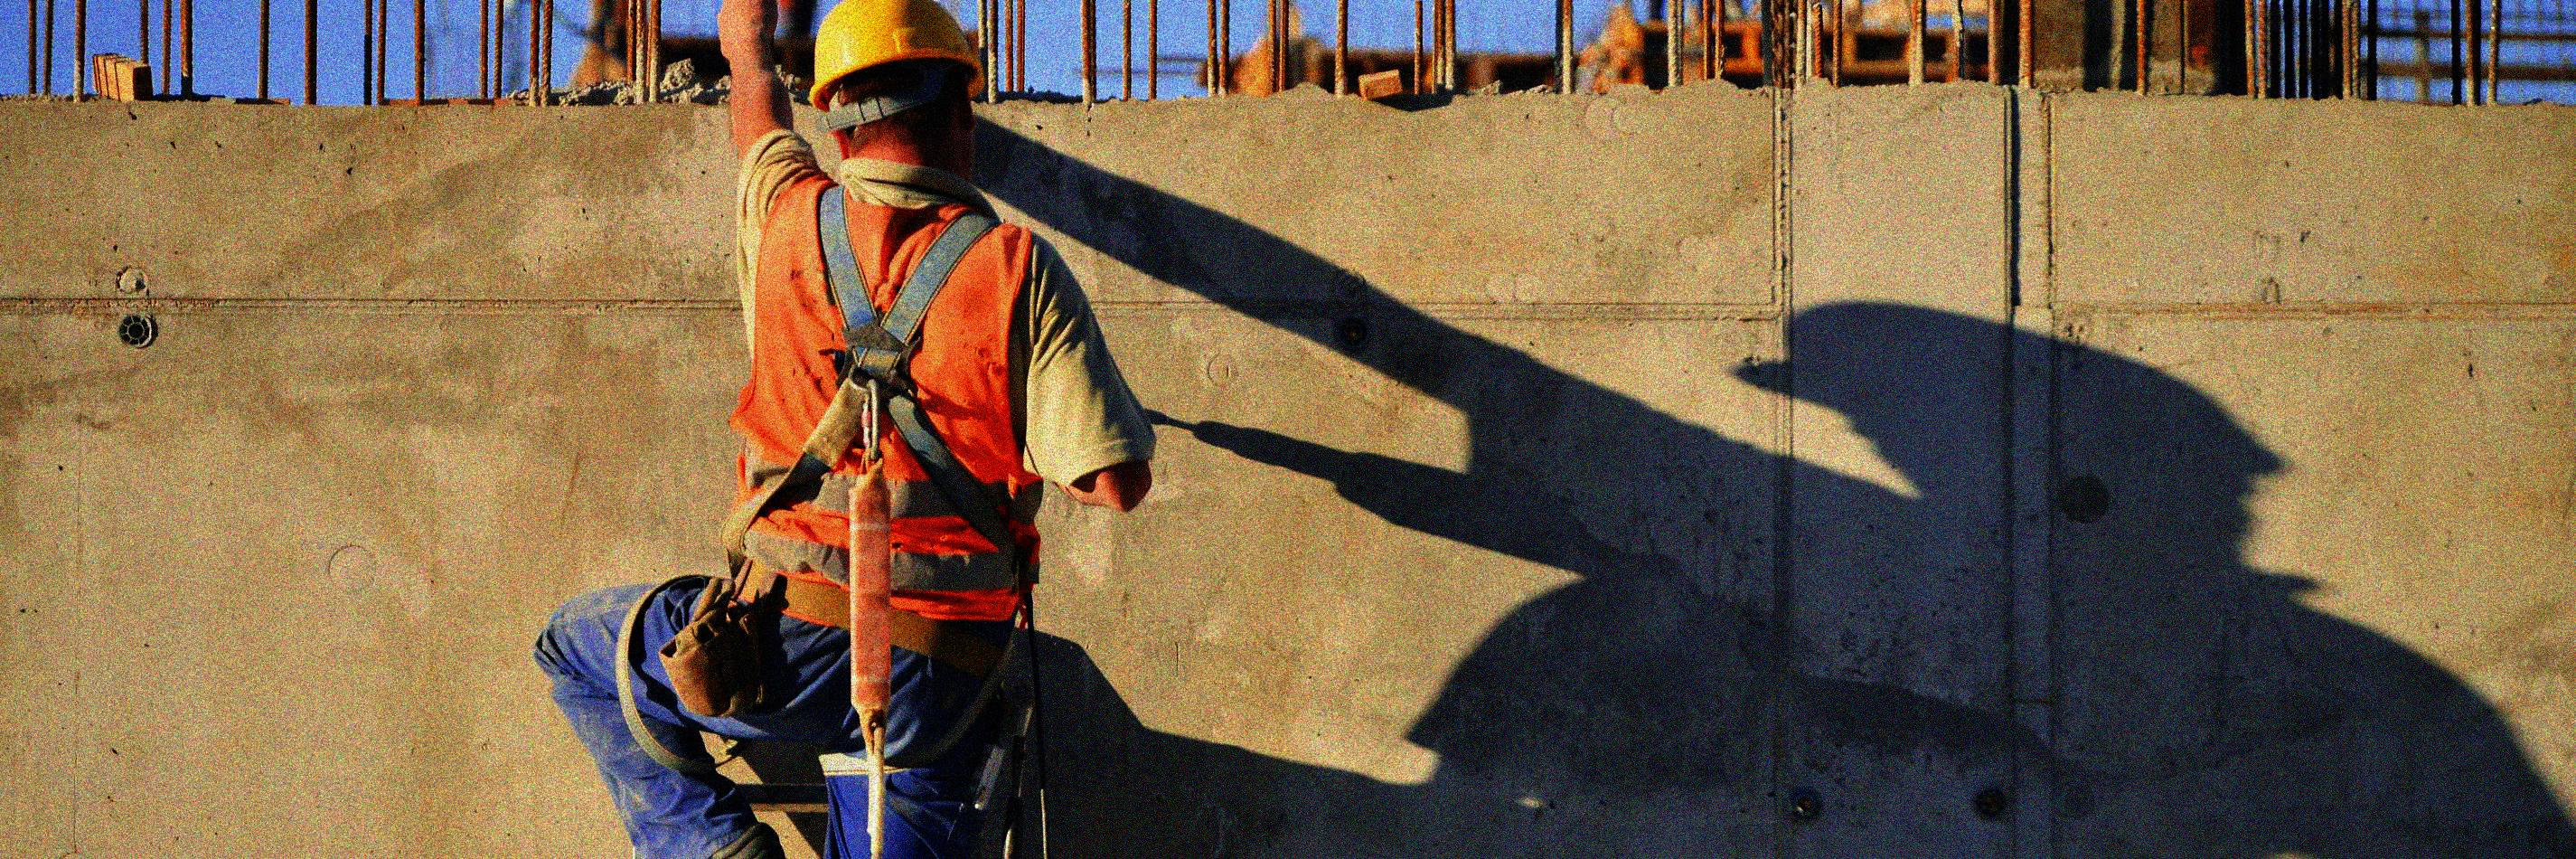helmet: (805, 2, 991, 186)
